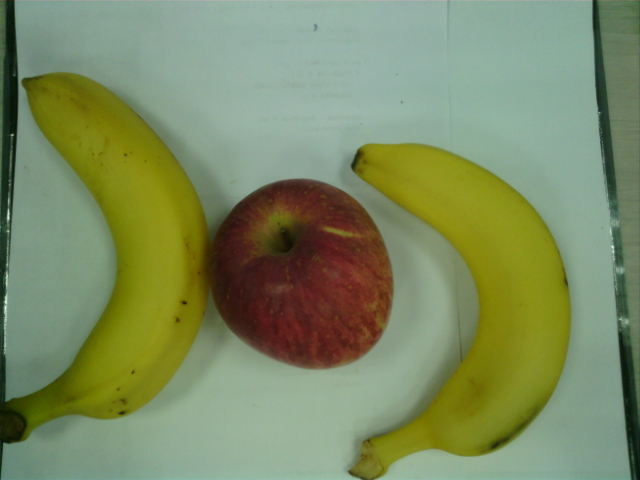normal_apple: (211, 180, 395, 369)
normal_banana: (353, 142, 572, 480), (24, 73, 201, 420)
